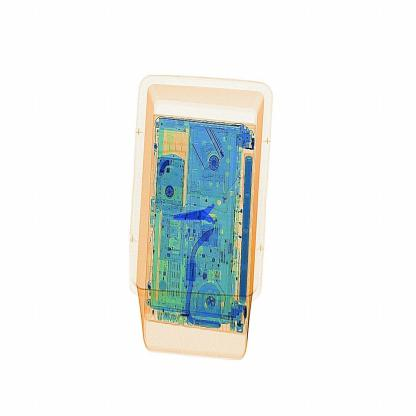gun: (171, 189, 235, 242)
